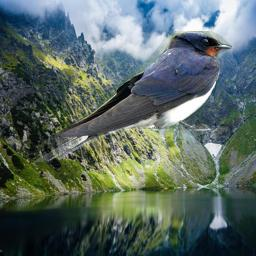Swallow: (34, 31, 232, 169)
